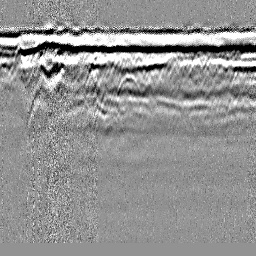cavity: (116, 68, 140, 95)
